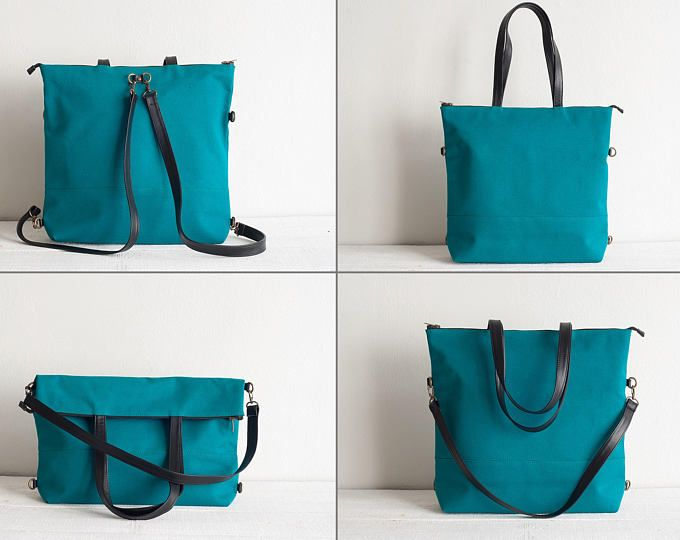nylon: (33, 63, 631, 513)
